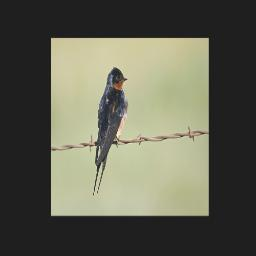Swallow: (91, 66, 128, 196)
